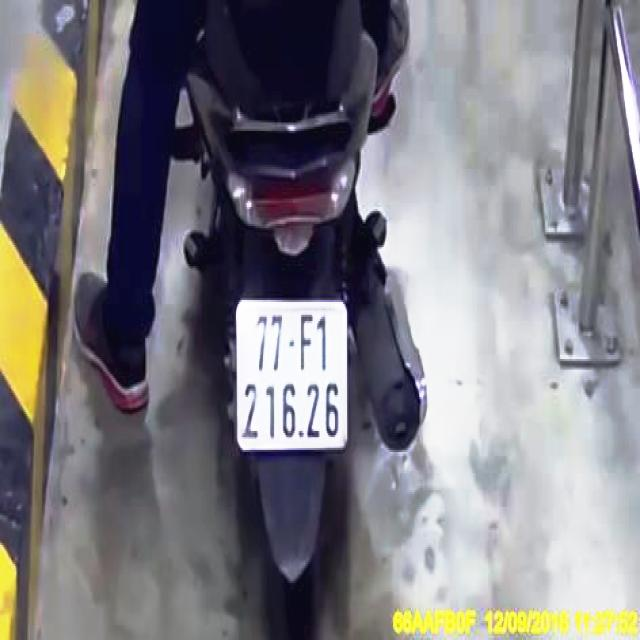license_plate: (235, 302, 350, 450)
